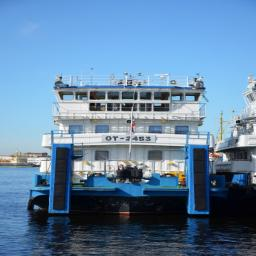tugboat: (26, 72, 227, 222)
